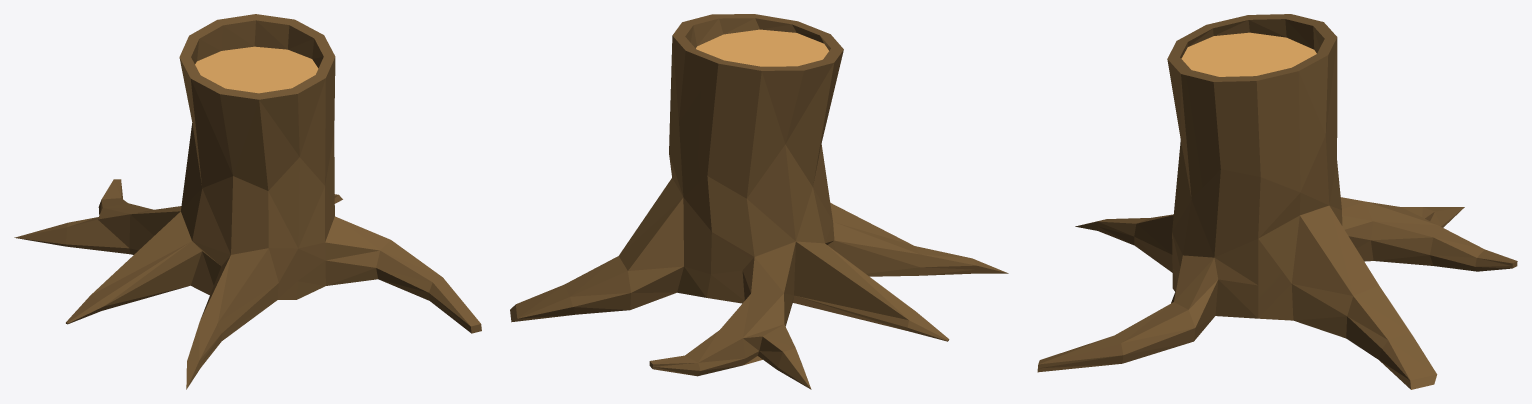
The model's file is Stump.fbx.
The picture shows the model from 3 angles, left to right: view 1: azimuth 30°, elevation 25°; view 2: azimuth 150°, elevation 25°; view 3: azimuth 270°, elevation 25°; orthographic projection. The views are drawn at different scales.
Parts seen in each view (by area): view 1: Stump_03; view 2: Stump_03; view 3: Stump_03.
Part boxes in pixels (bbox=[...]): Stump_03: bbox=[14, 14, 481, 389]; Stump_03: bbox=[510, 14, 1008, 389]; Stump_03: bbox=[1037, 14, 1517, 389].
Size of the model in its own units: 1.61 by 1.11 by 1.78.
